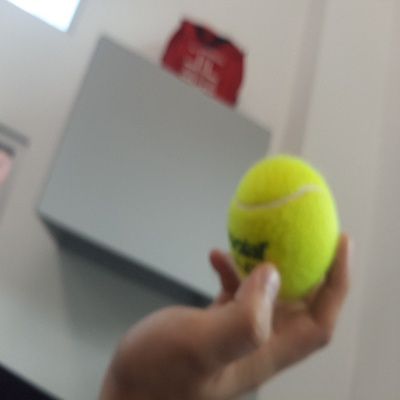Ball: (228, 153, 339, 296)
